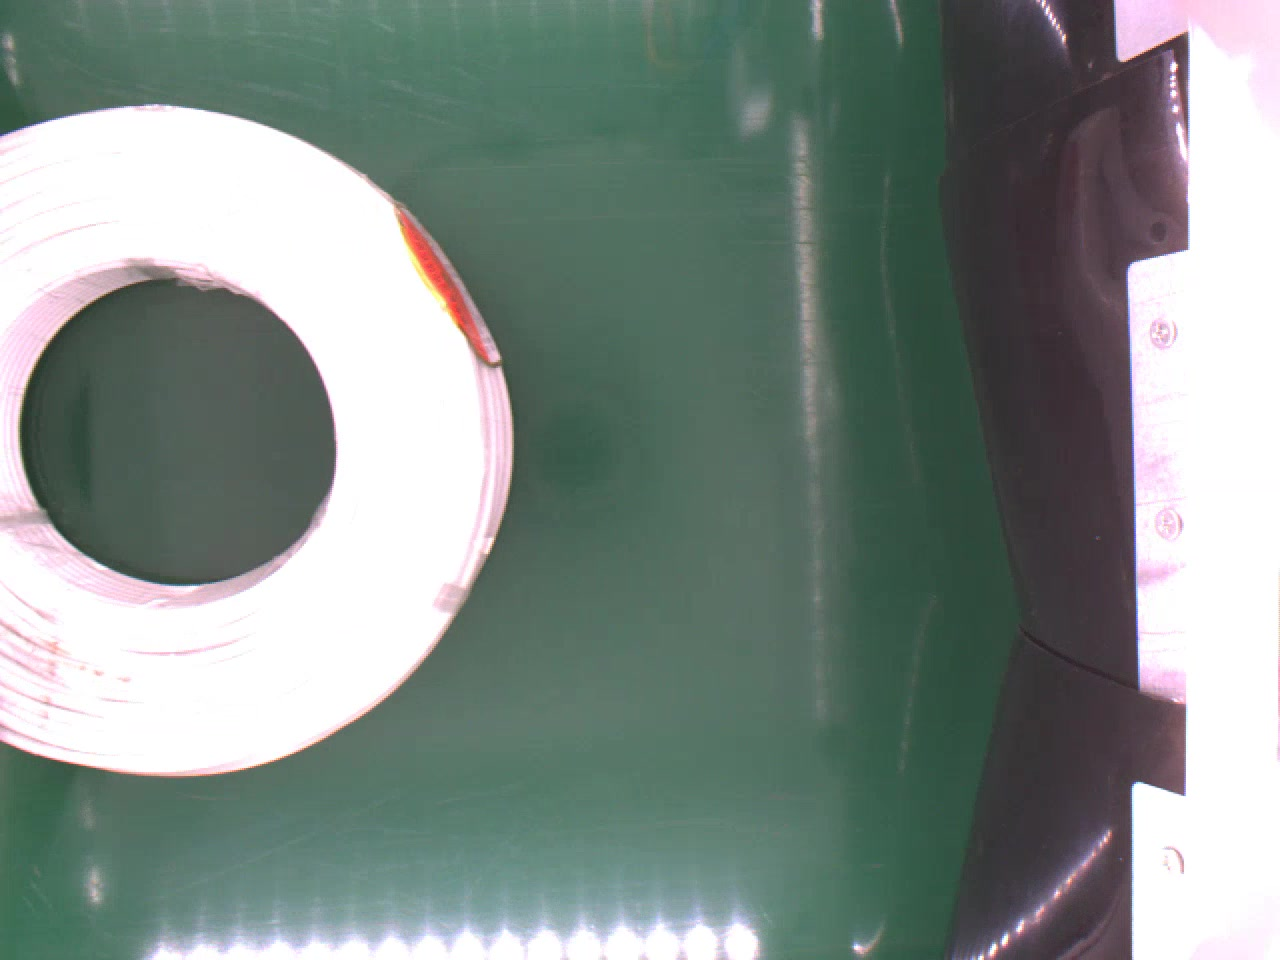white: (0, 98, 510, 781)
